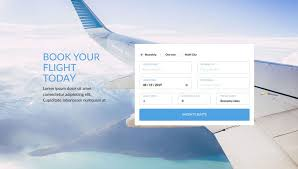maybay_dansu: (72, 1, 298, 159)
